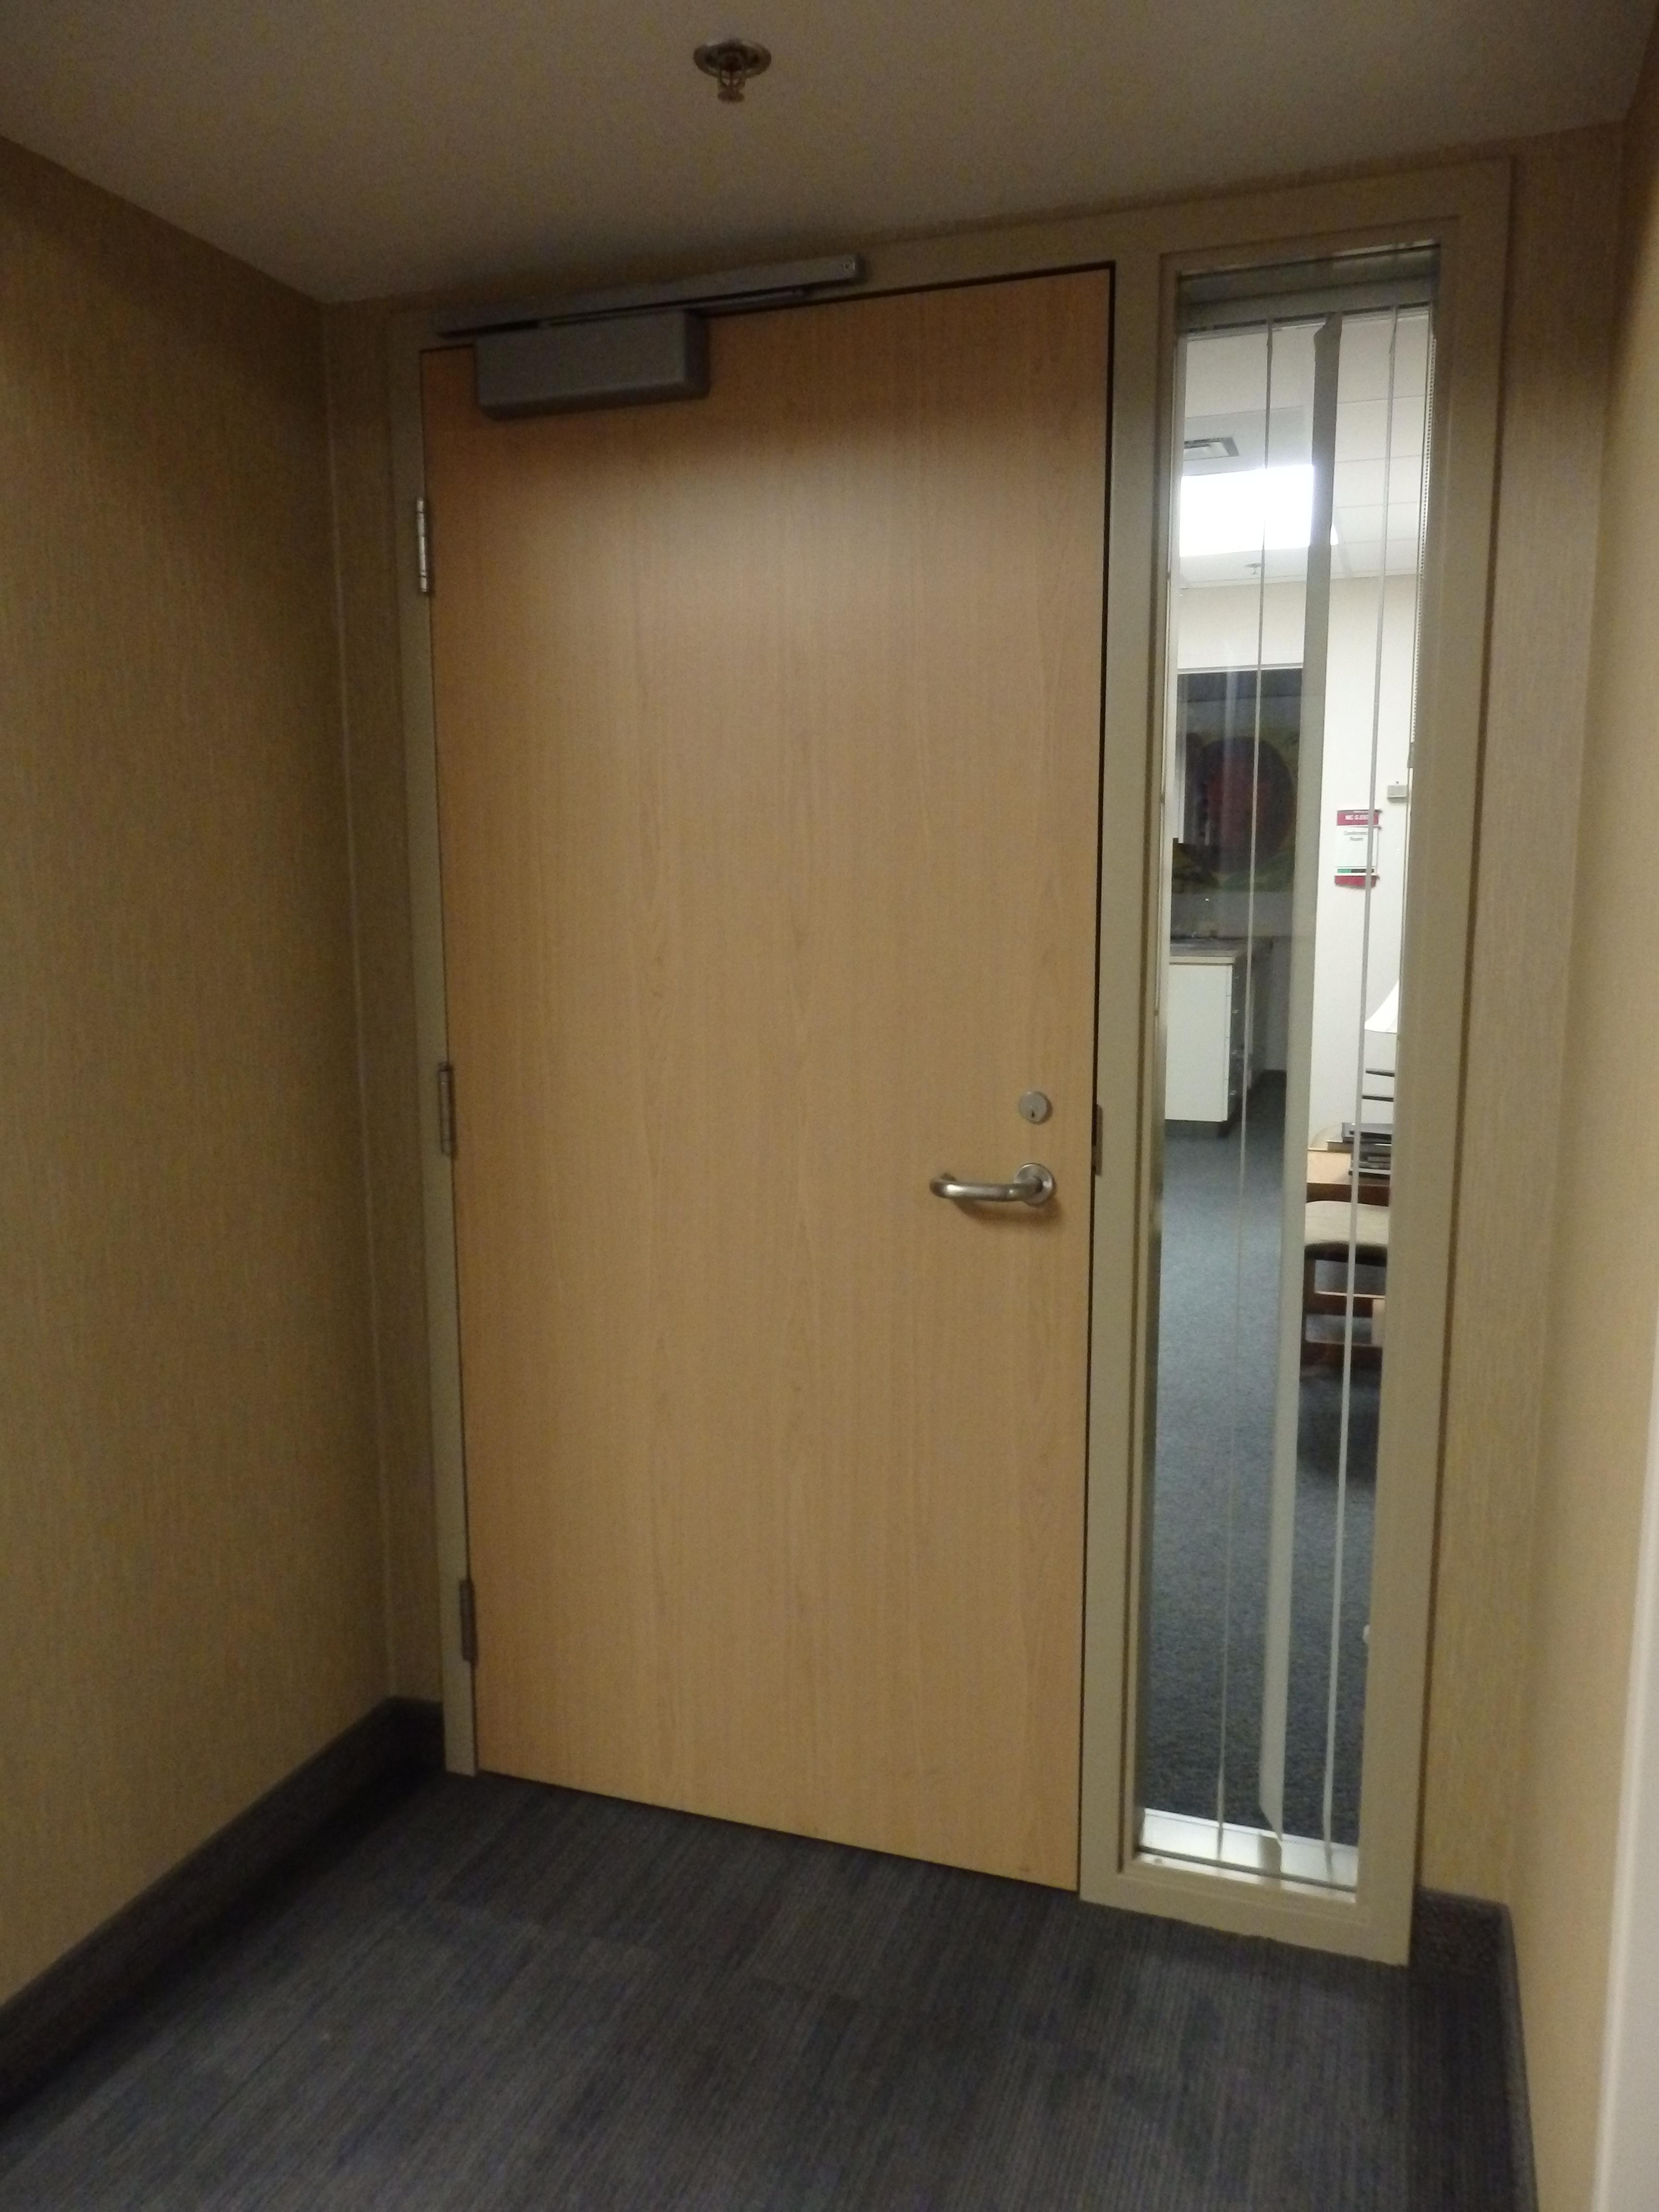door: (383, 211, 1175, 1909)
